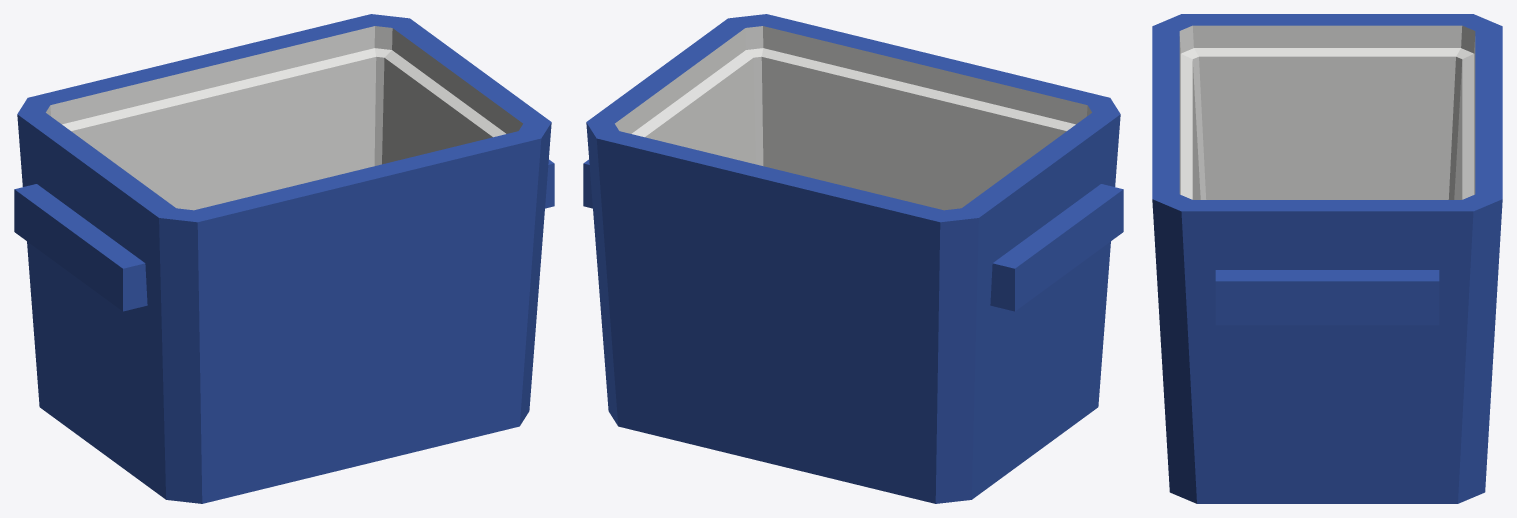
The model's file is SM_Cook_CoolerBox_Body_Blue_01.fbx.
The picture shows the model from 3 angles, left to right: view 1: azimuth 30°, elevation 25°; view 2: azimuth 150°, elevation 25°; view 3: azimuth 270°, elevation 25°; orthographic projection. The views are drawn at different scales.
Visible parts, largest first — view 1: SM_Cook_CoolerBox_Body_Blue_01; view 2: SM_Cook_CoolerBox_Body_Blue_01; view 3: SM_Cook_CoolerBox_Body_Blue_01.
Part boxes in pixels (x1=…): SM_Cook_CoolerBox_Body_Blue_01: x1=14, y1=14, x2=554, y2=503; SM_Cook_CoolerBox_Body_Blue_01: x1=583, y1=14, x2=1123, y2=503; SM_Cook_CoolerBox_Body_Blue_01: x1=1152, y1=14, x2=1502, y2=503.
Size of the model in its own units: 0.5275 by 0.34 by 0.36.
Materials: 1 (1 with a texture image).
